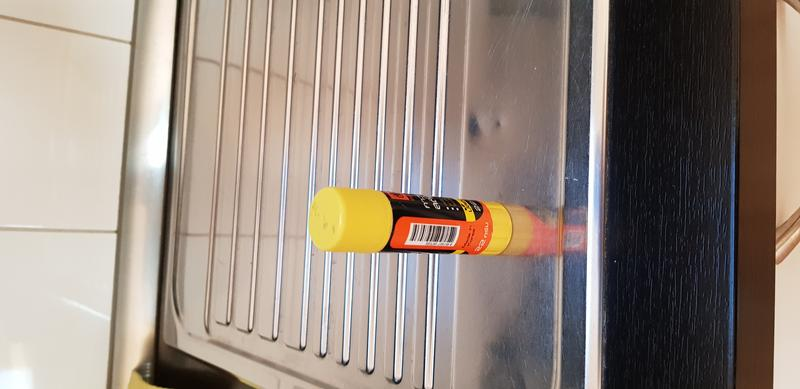Glue-Stick: (296, 187, 526, 262)
